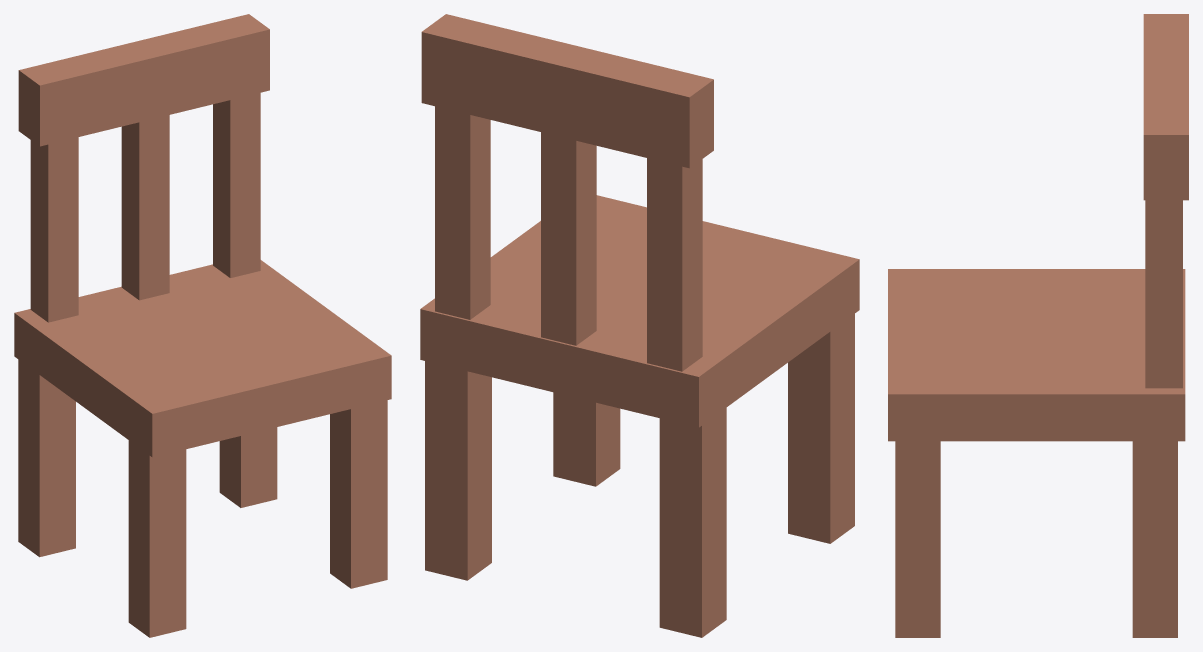
Rendered from Chair.fbx.
3 renders of one model, left to right at view 1: azimuth 30°, elevation 25°; view 2: azimuth 150°, elevation 25°; view 3: azimuth 270°, elevation 25°, orthographic. The views are drawn at different scales.
Visible parts, largest first — view 1: Chair, Cube.006, Cube.007, Cube.008; view 2: Chair, Cube.006, Cube.007, Cube.008; view 3: Chair, Cube.006, Cube.008, Cube.007.
Part boxes in pixels (bbox=[...]): Chair: bbox=[14, 260, 391, 457]; Cube.006: bbox=[18, 359, 387, 637]; Cube.007: bbox=[30, 93, 260, 322]; Cube.008: bbox=[18, 14, 269, 146]; Chair: bbox=[420, 195, 859, 427]; Cube.006: bbox=[425, 314, 854, 637]; Cube.007: bbox=[435, 106, 702, 371]; Cube.008: bbox=[421, 14, 713, 168]; Chair: bbox=[888, 269, 1185, 441]; Cube.006: bbox=[895, 441, 1177, 637]; Cube.008: bbox=[1143, 14, 1188, 200]; Cube.007: bbox=[1145, 200, 1182, 388].
Size of the model in its own units: 27.67 by 51.57 by 28.02.
